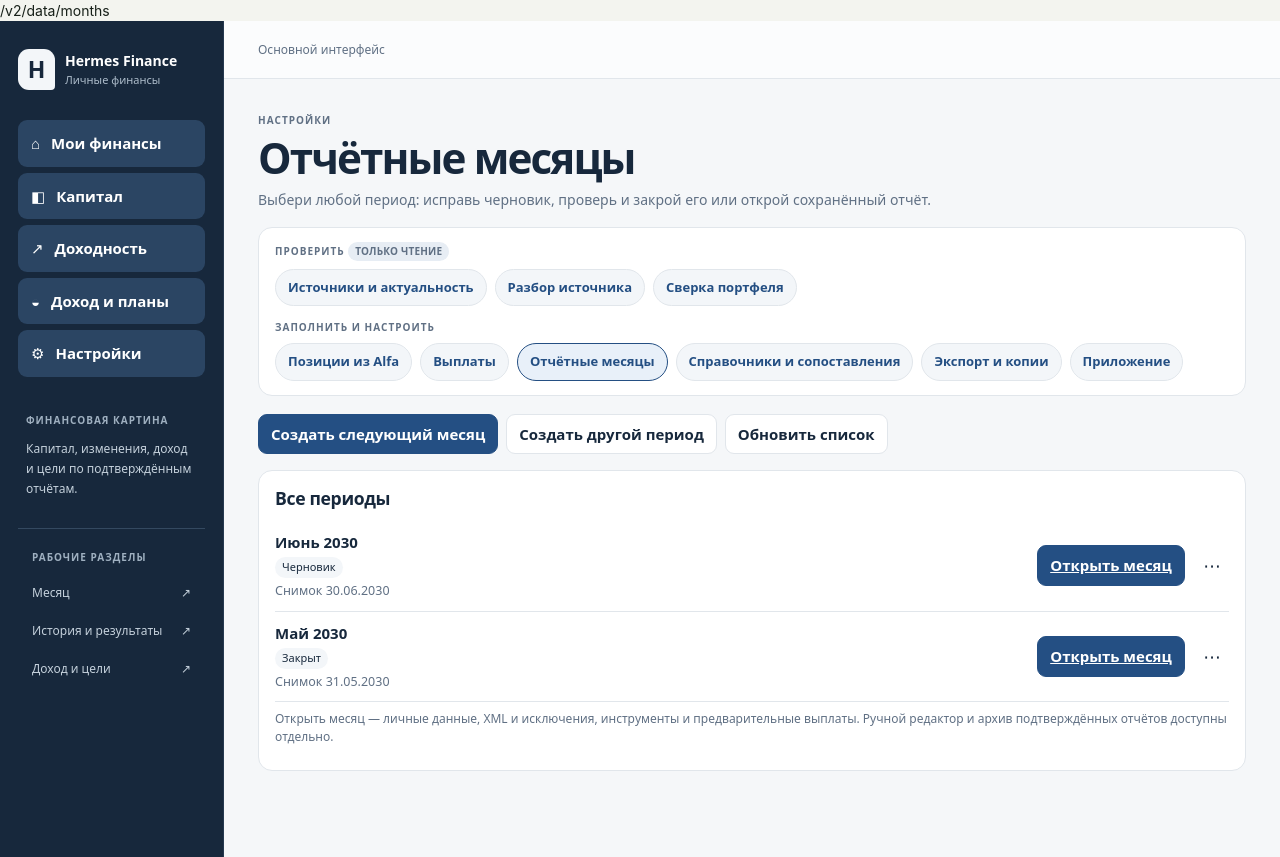
Scenario: native month management › creates a period once and selects it only after list readback
This screenshot has width=1280, height=857.
Click the button "Создать другой период" at (612, 434), box [506,414,717,454]
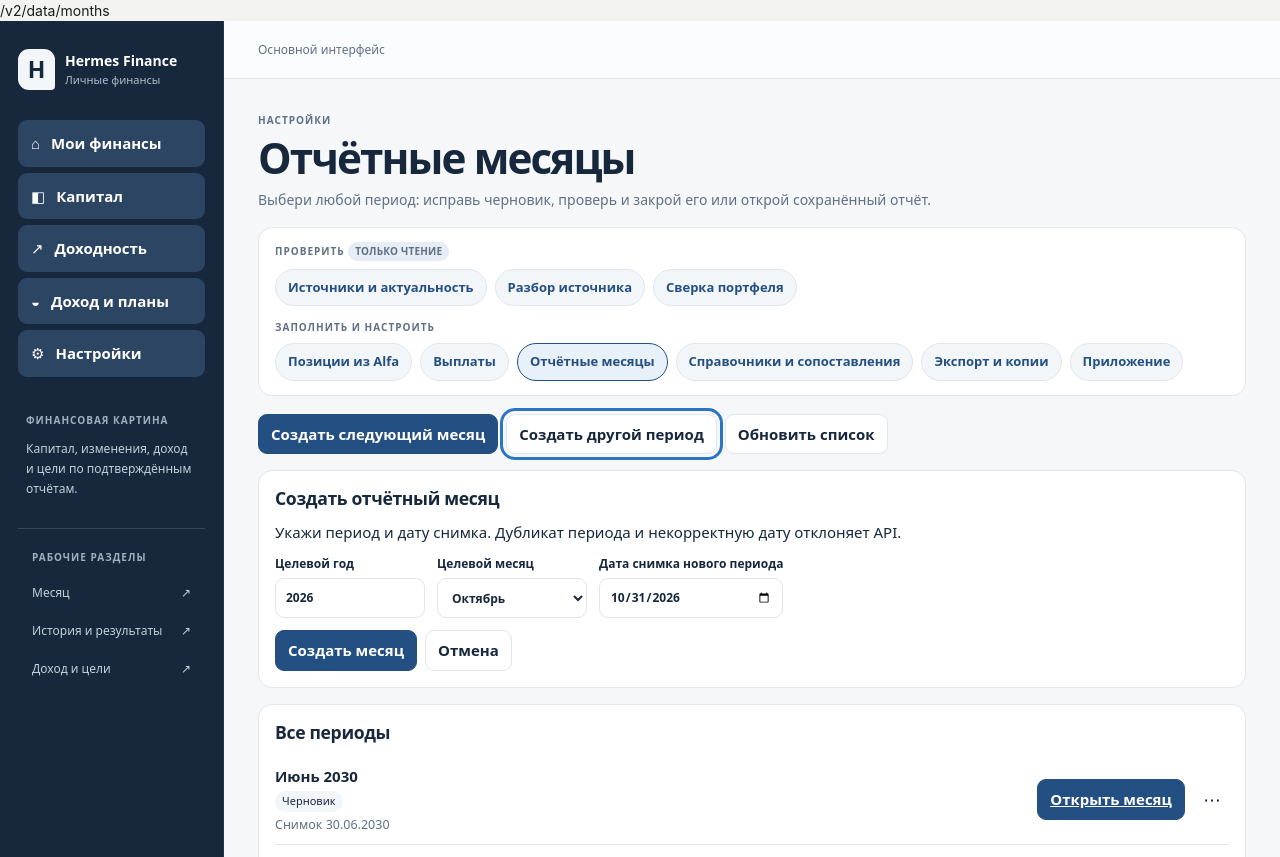
Replace the text in the number field labelled "Целевой год" with "2030" at (350, 598), box [275,578,425,618]
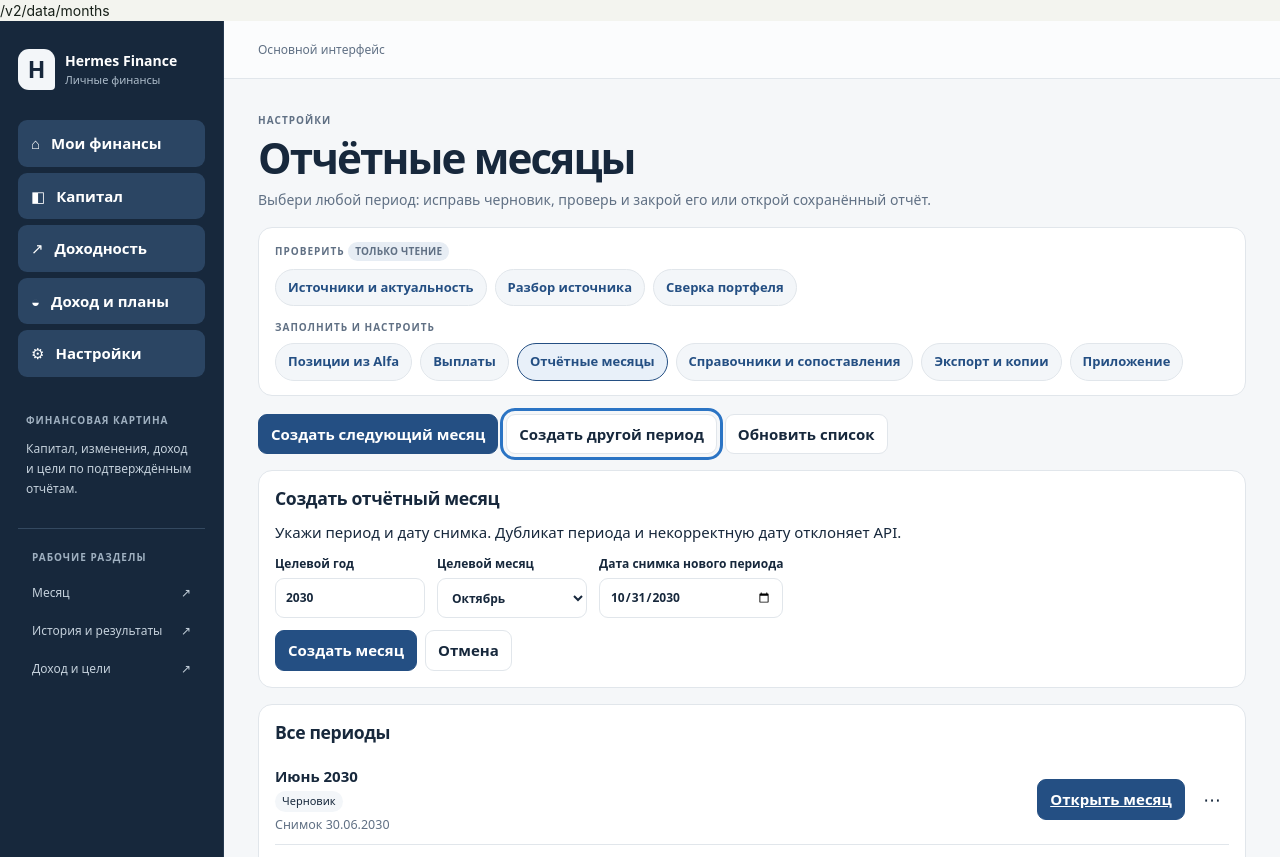
Select "Июль" in the dropdown labelled "Целевой месяц" at (512, 598), box [437,578,587,618]
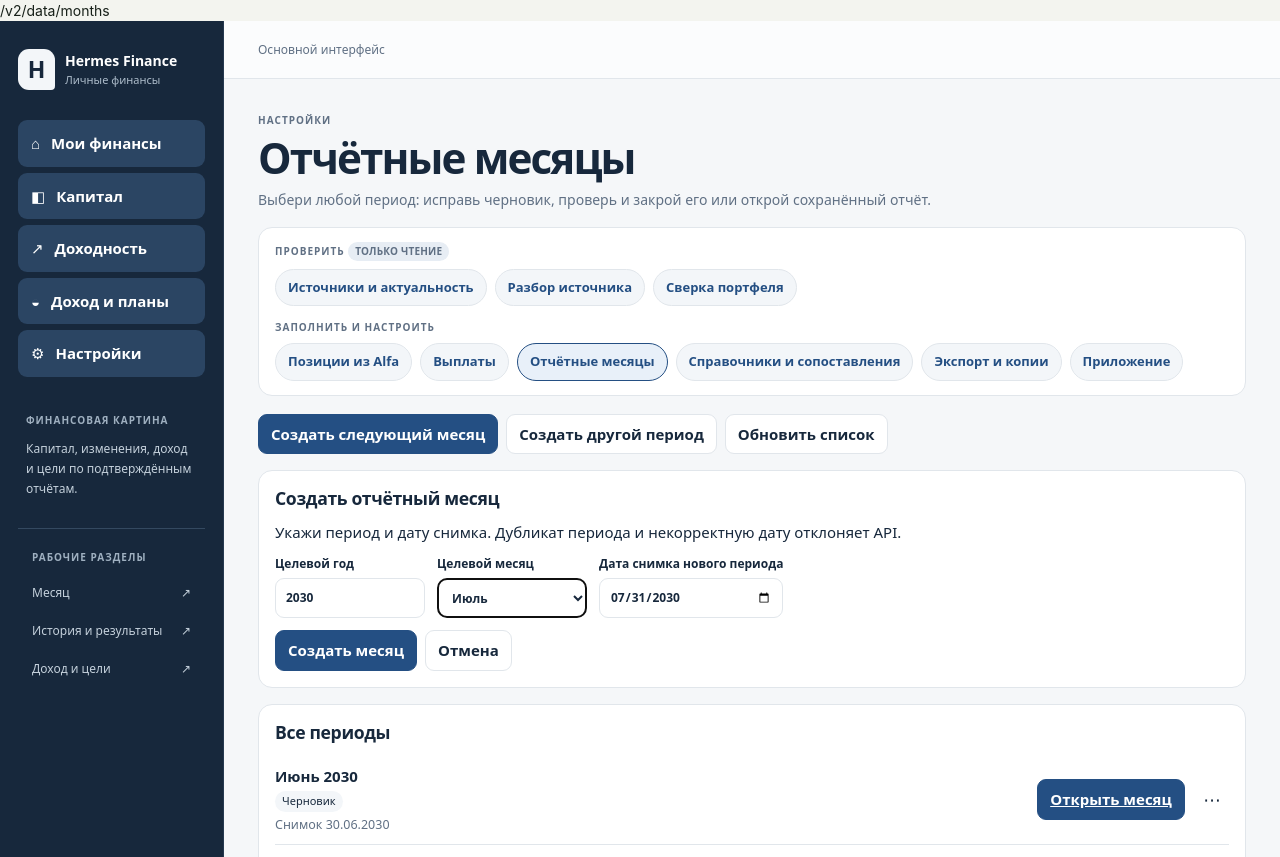
Click the button "Создать месяц" at (346, 651), box [275,630,417,671]
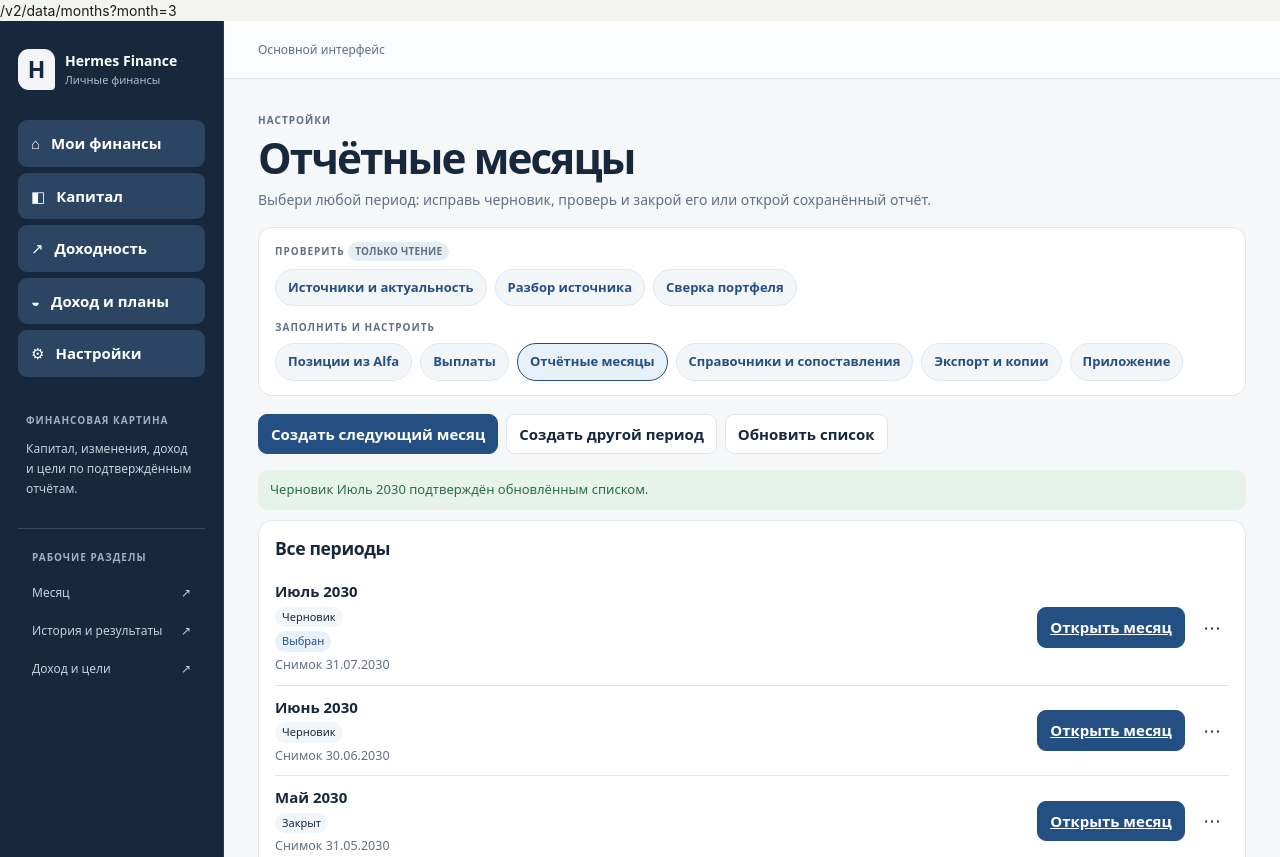
expect the text with test id "location" shows "month=3": met, box [110,2,177,19]
expect the text "Черновик Июль 2030 подтверждён обновлённым списком." is shown: met, box [258,470,1246,510]
